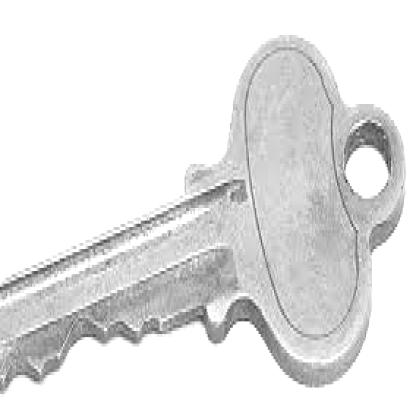key: (0, 41, 407, 407)
